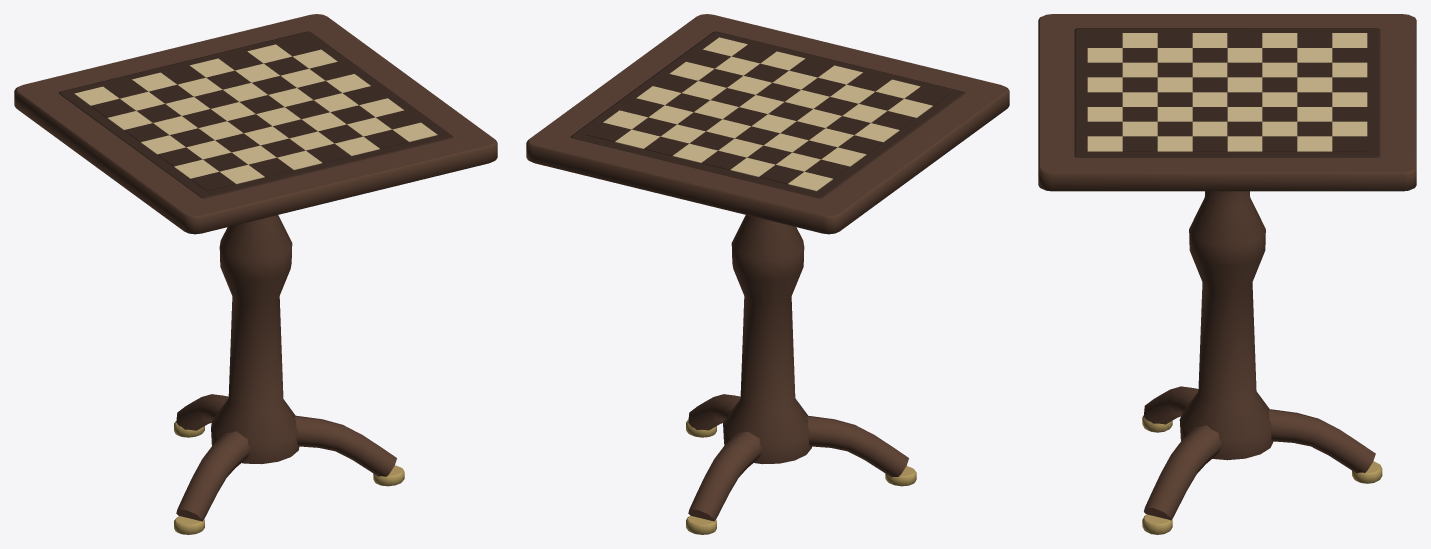
The model's file is rpg-mansion-pedestal-chess-table-01.glb.
3 renders of one model, left to right at view 1: azimuth 30°, elevation 25°; view 2: azimuth 150°, elevation 25°; view 3: azimuth 270°, elevation 25°, orthographic. The views are drawn at different scales.
Parts seen in each view (by area): view 1: rpg-mansion-pedestal-chess-table-01; view 2: rpg-mansion-pedestal-chess-table-01; view 3: rpg-mansion-pedestal-chess-table-01.
Part boxes in pixels (left/top/right/bottom): rpg-mansion-pedestal-chess-table-01: left=14, top=14, right=497, bottom=534; rpg-mansion-pedestal-chess-table-01: left=526, top=14, right=1009, bottom=534; rpg-mansion-pedestal-chess-table-01: left=1038, top=14, right=1416, bottom=534.
Size of the model in its own units: 0.65 by 0.73 by 0.65.
